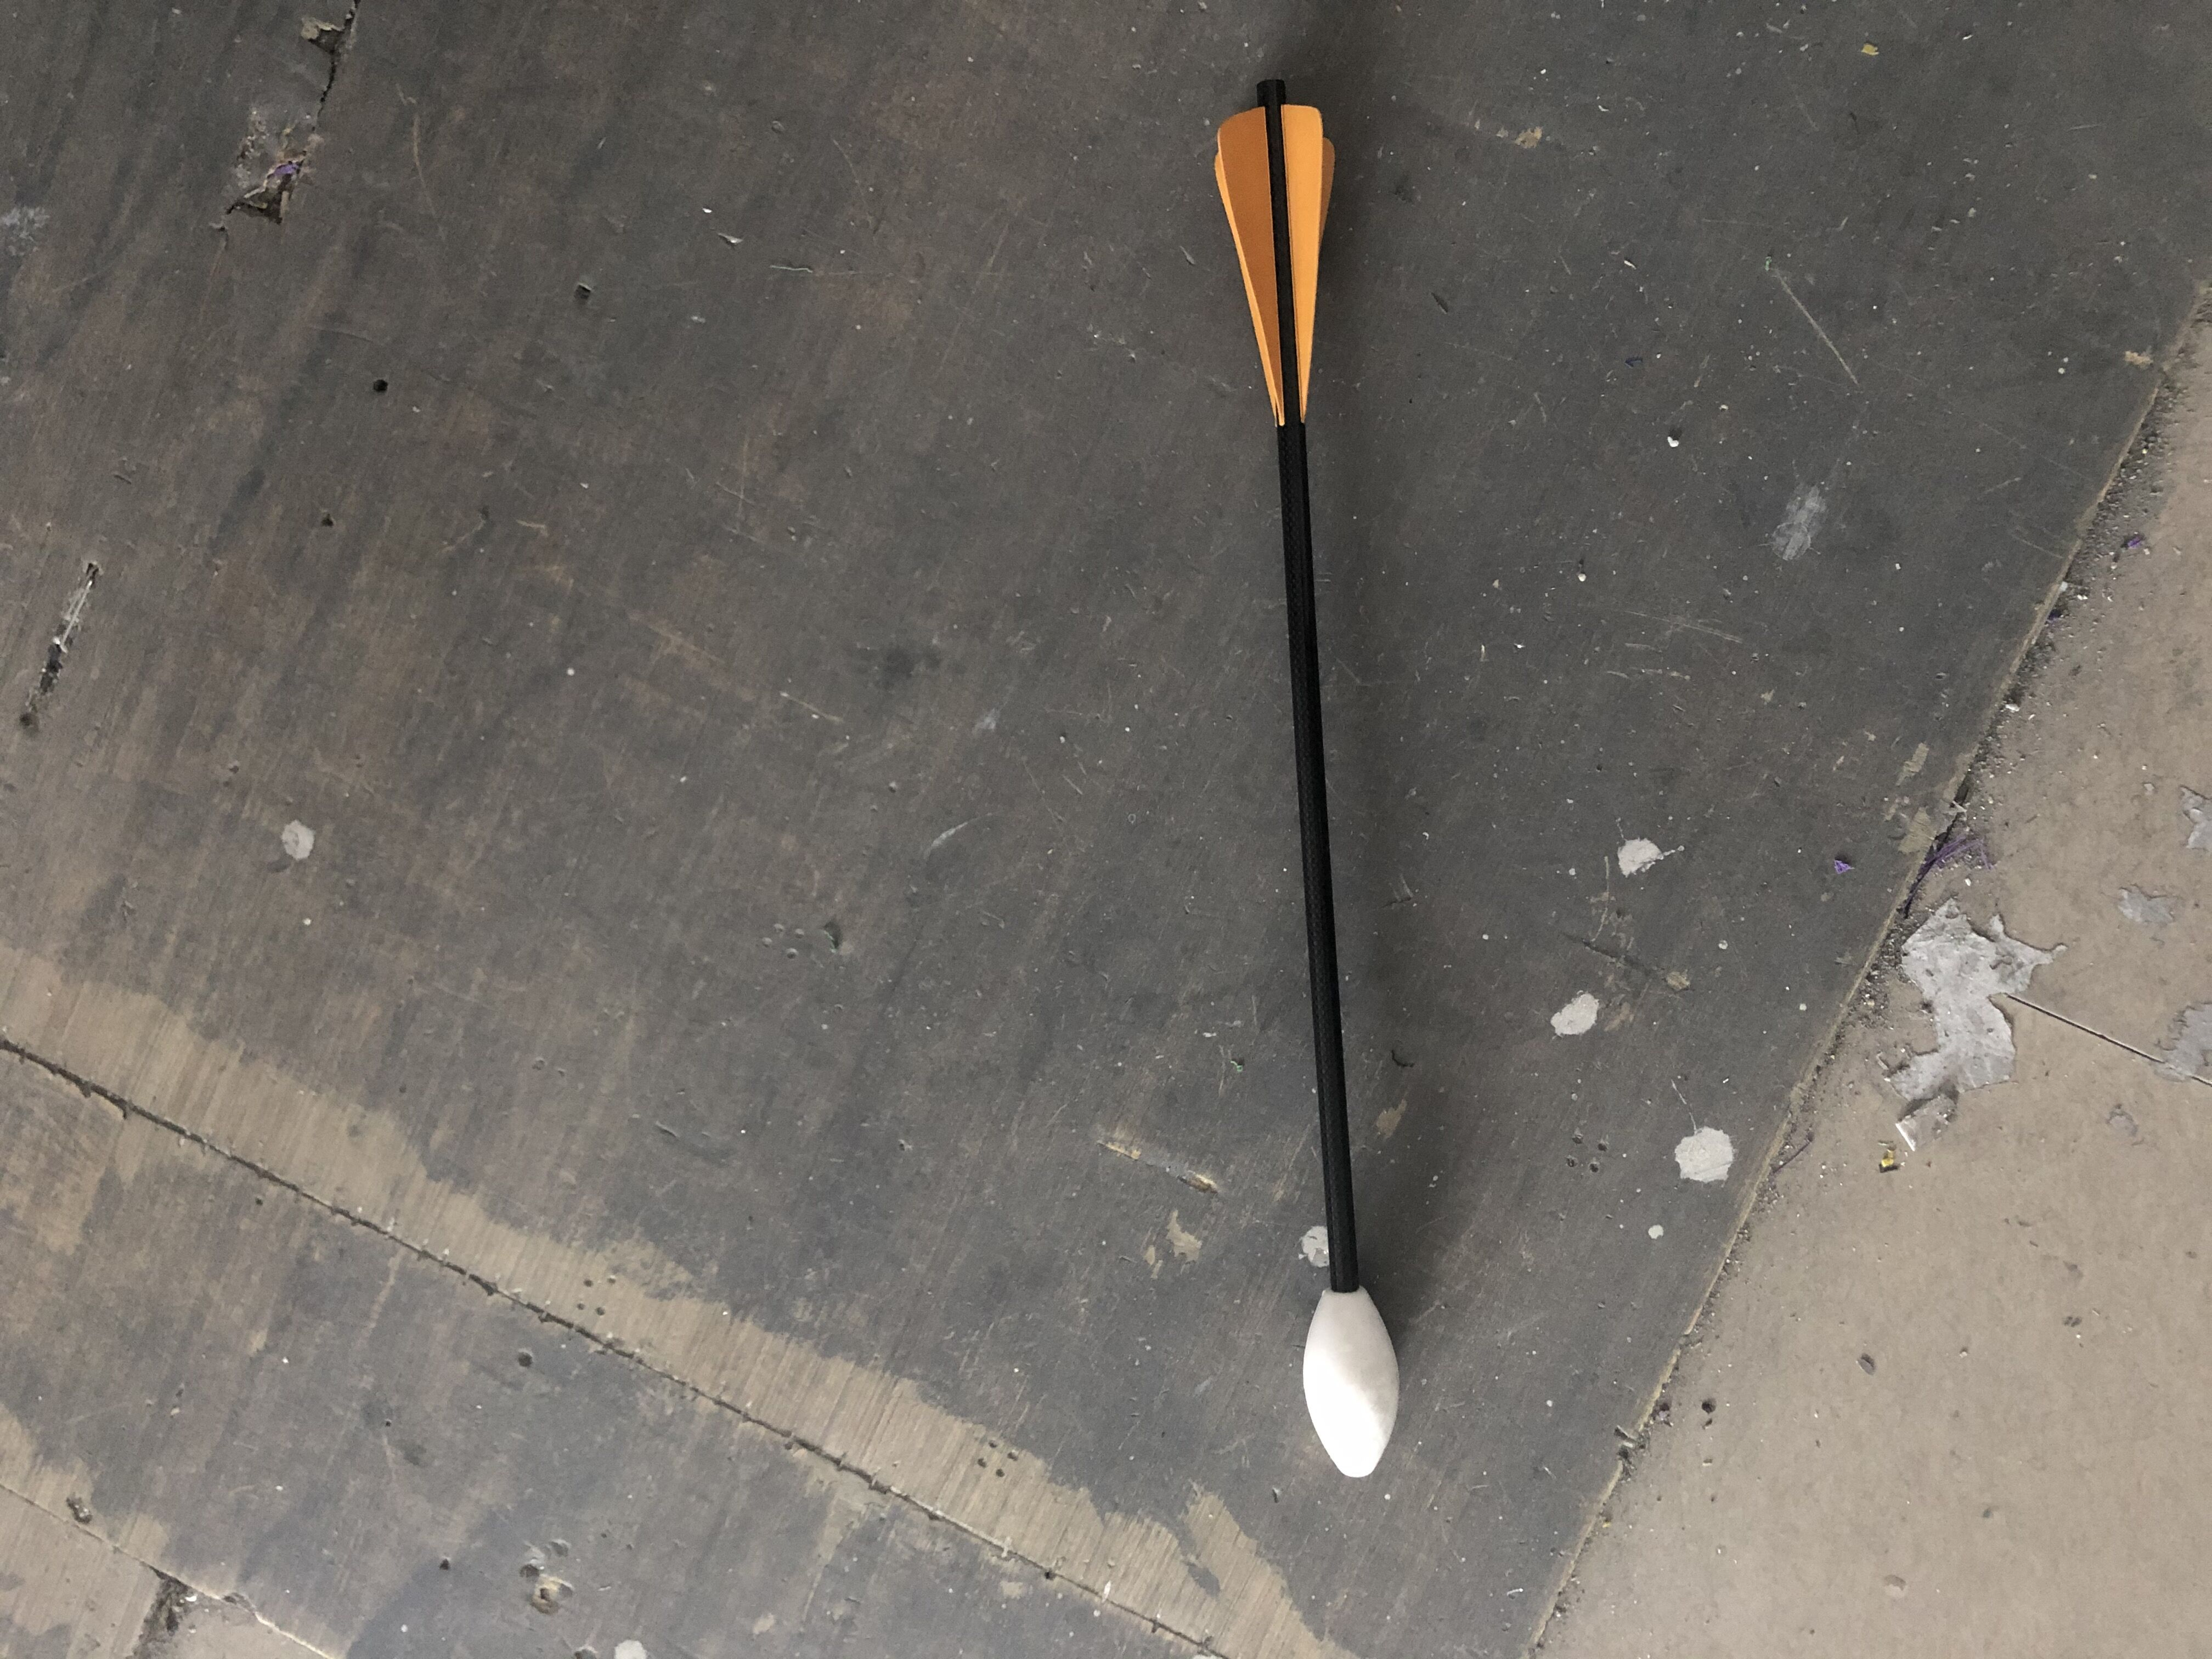arrow: (1205, 71, 1409, 1490)
arrowFront: (1301, 1284, 1402, 1481)
